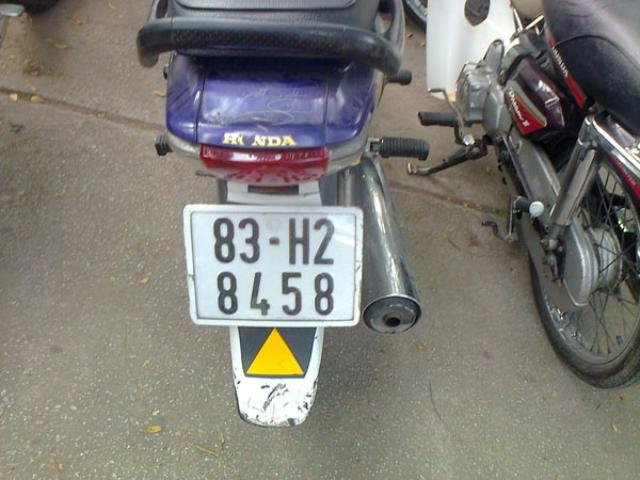plate: (190, 208, 356, 330)
